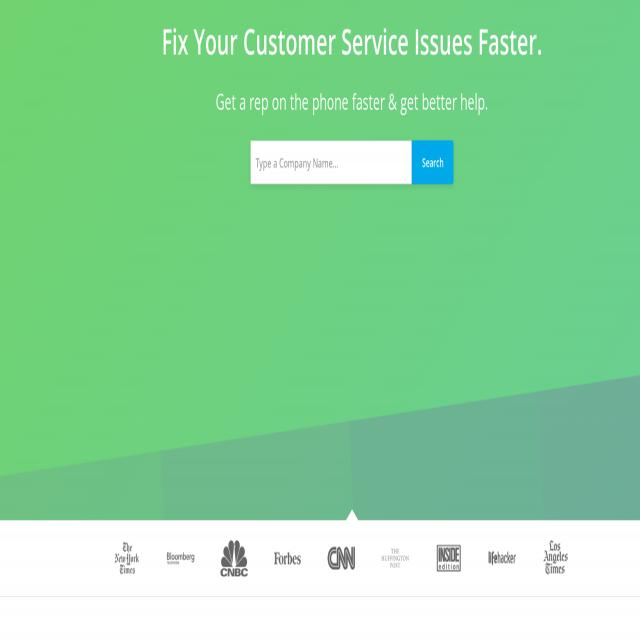button: (164, 529, 197, 587), (325, 529, 358, 587), (432, 529, 465, 587), (111, 529, 143, 587), (218, 529, 250, 587), (272, 529, 304, 587), (379, 529, 411, 587), (486, 529, 518, 587), (540, 529, 572, 587), (412, 140, 454, 184)
field: (250, 140, 412, 184)
